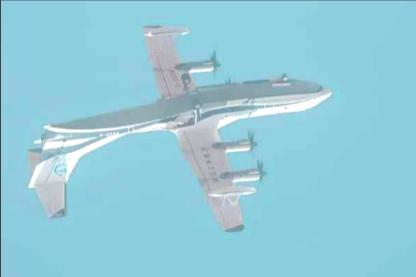AG600: (23, 24, 331, 234)
